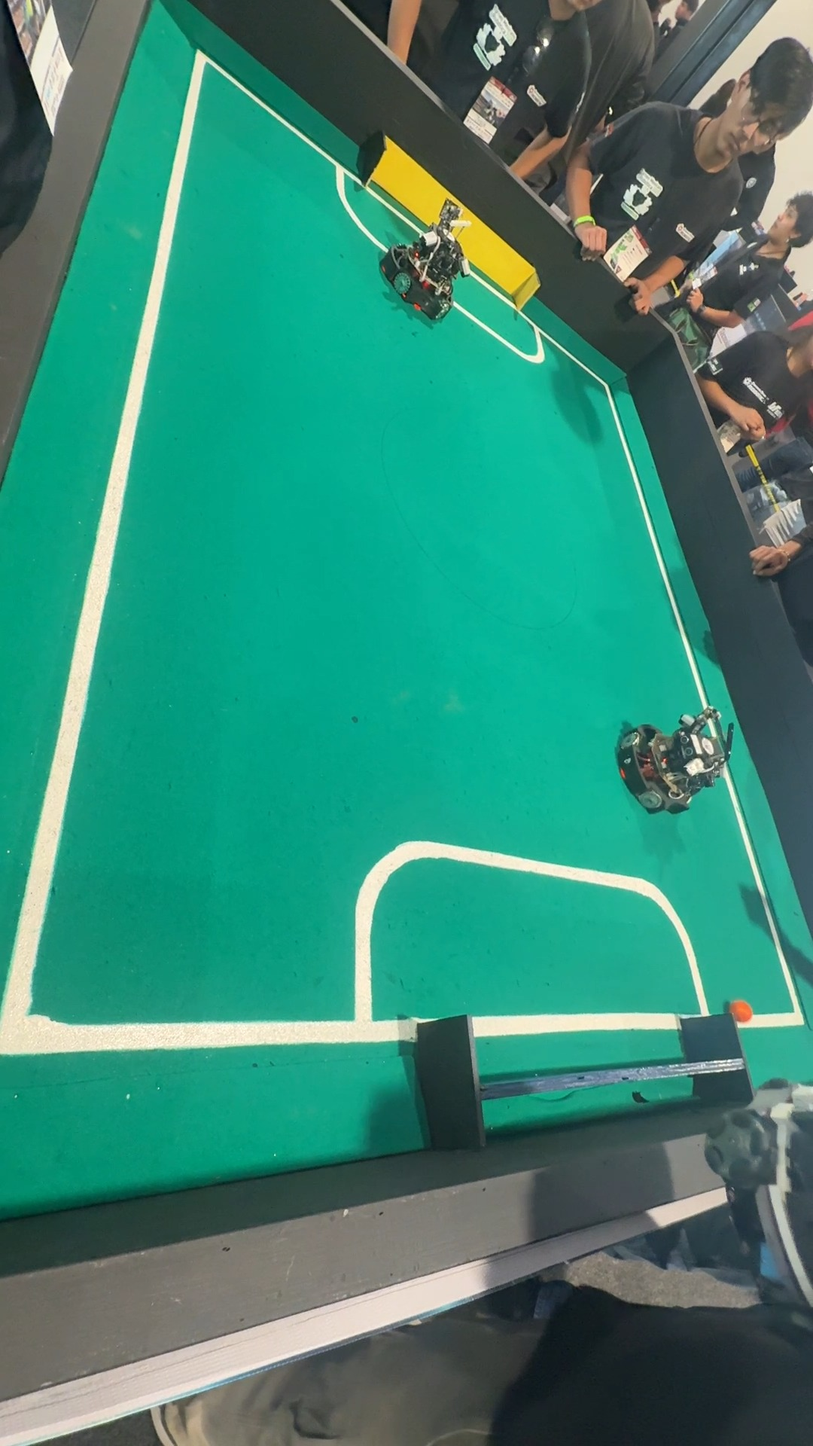Robot: (613, 693, 746, 827), (374, 185, 473, 331)
pelota: (728, 985, 755, 1024)
